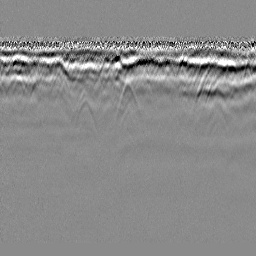cavity: (114, 73, 142, 122)
